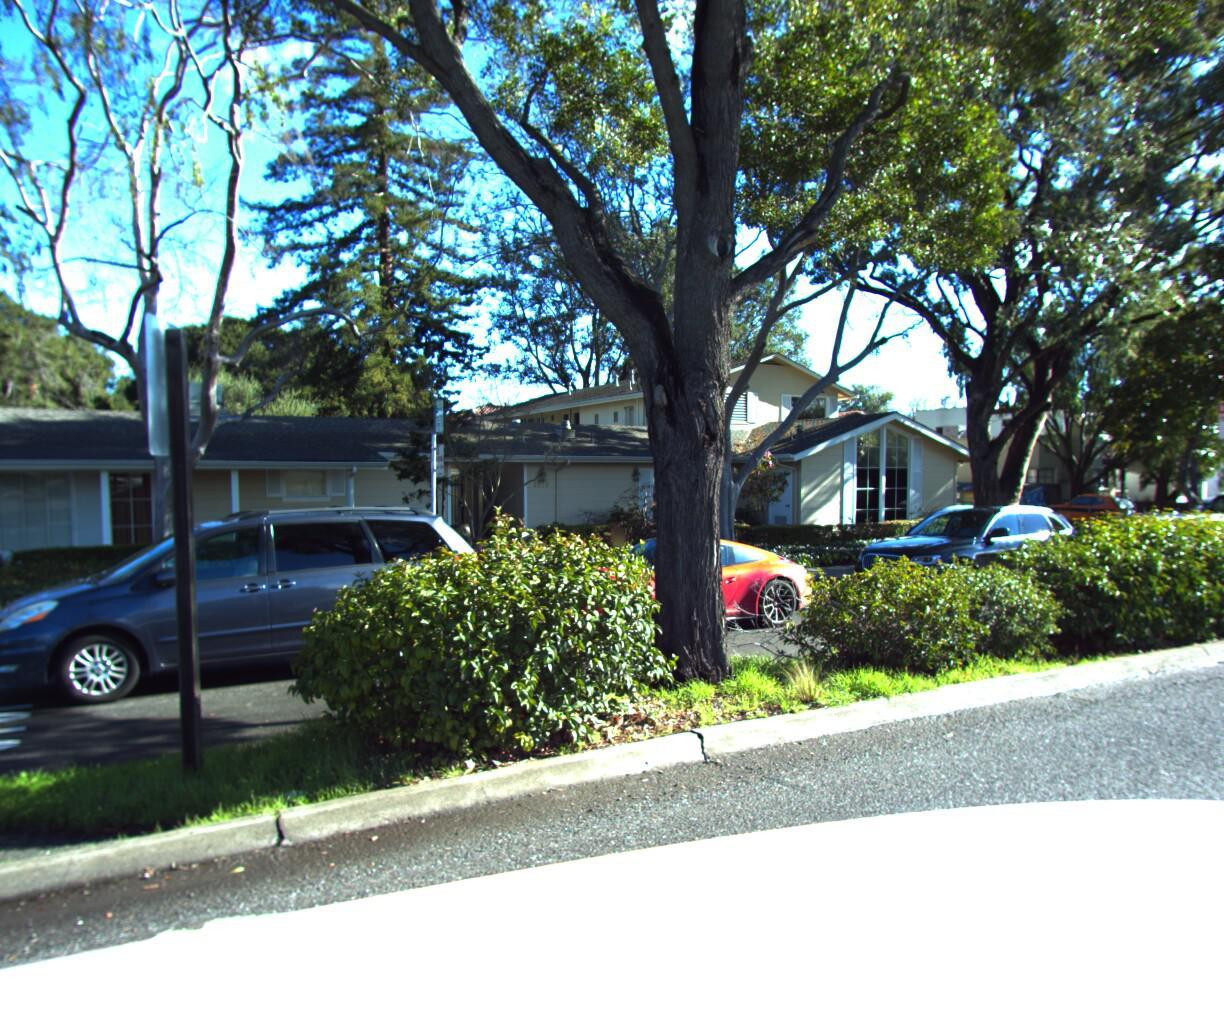car: (0, 498, 509, 736), (498, 524, 833, 661), (837, 499, 1107, 623), (1050, 503, 1224, 593), (1158, 481, 1224, 577), (1034, 487, 1150, 534), (1189, 480, 1224, 519)
